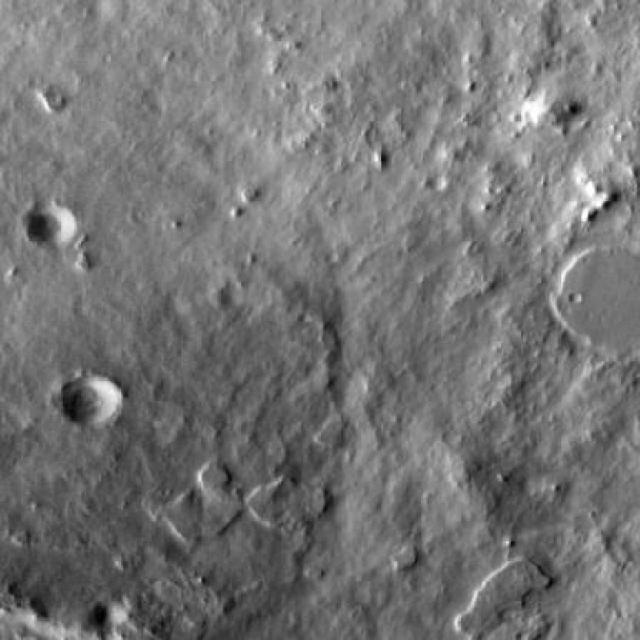crater: (563, 236, 640, 356), (64, 368, 127, 424), (28, 197, 80, 243)
